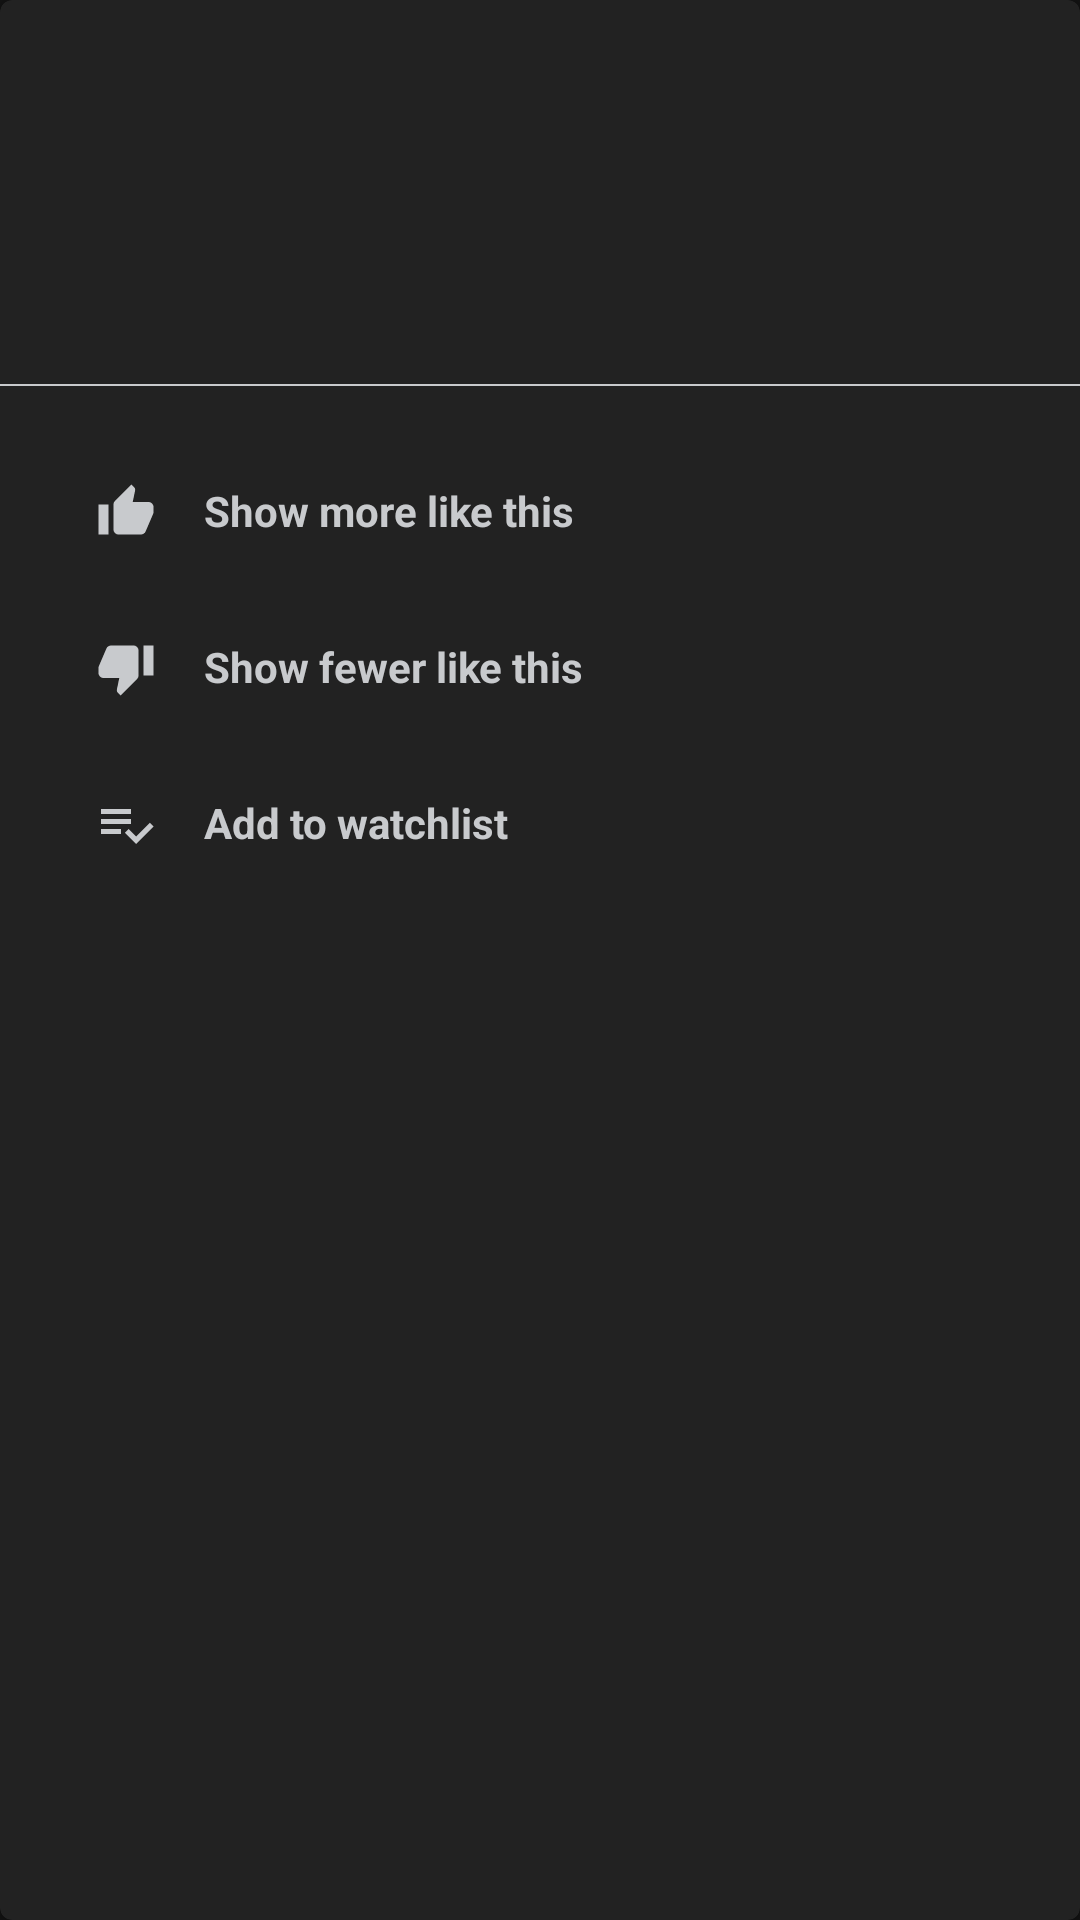

Named icons in this screenshot (1080 x 1920) and their bounding boxes, {"left": x1, "top": y1, "right": x2, "bottom": y2}:
playlist add check: {"left": 101, "top": 809, "right": 154, "bottom": 844}
thumb down: {"left": 98, "top": 645, "right": 154, "bottom": 696}
thumb up: {"left": 98, "top": 484, "right": 154, "bottom": 535}
